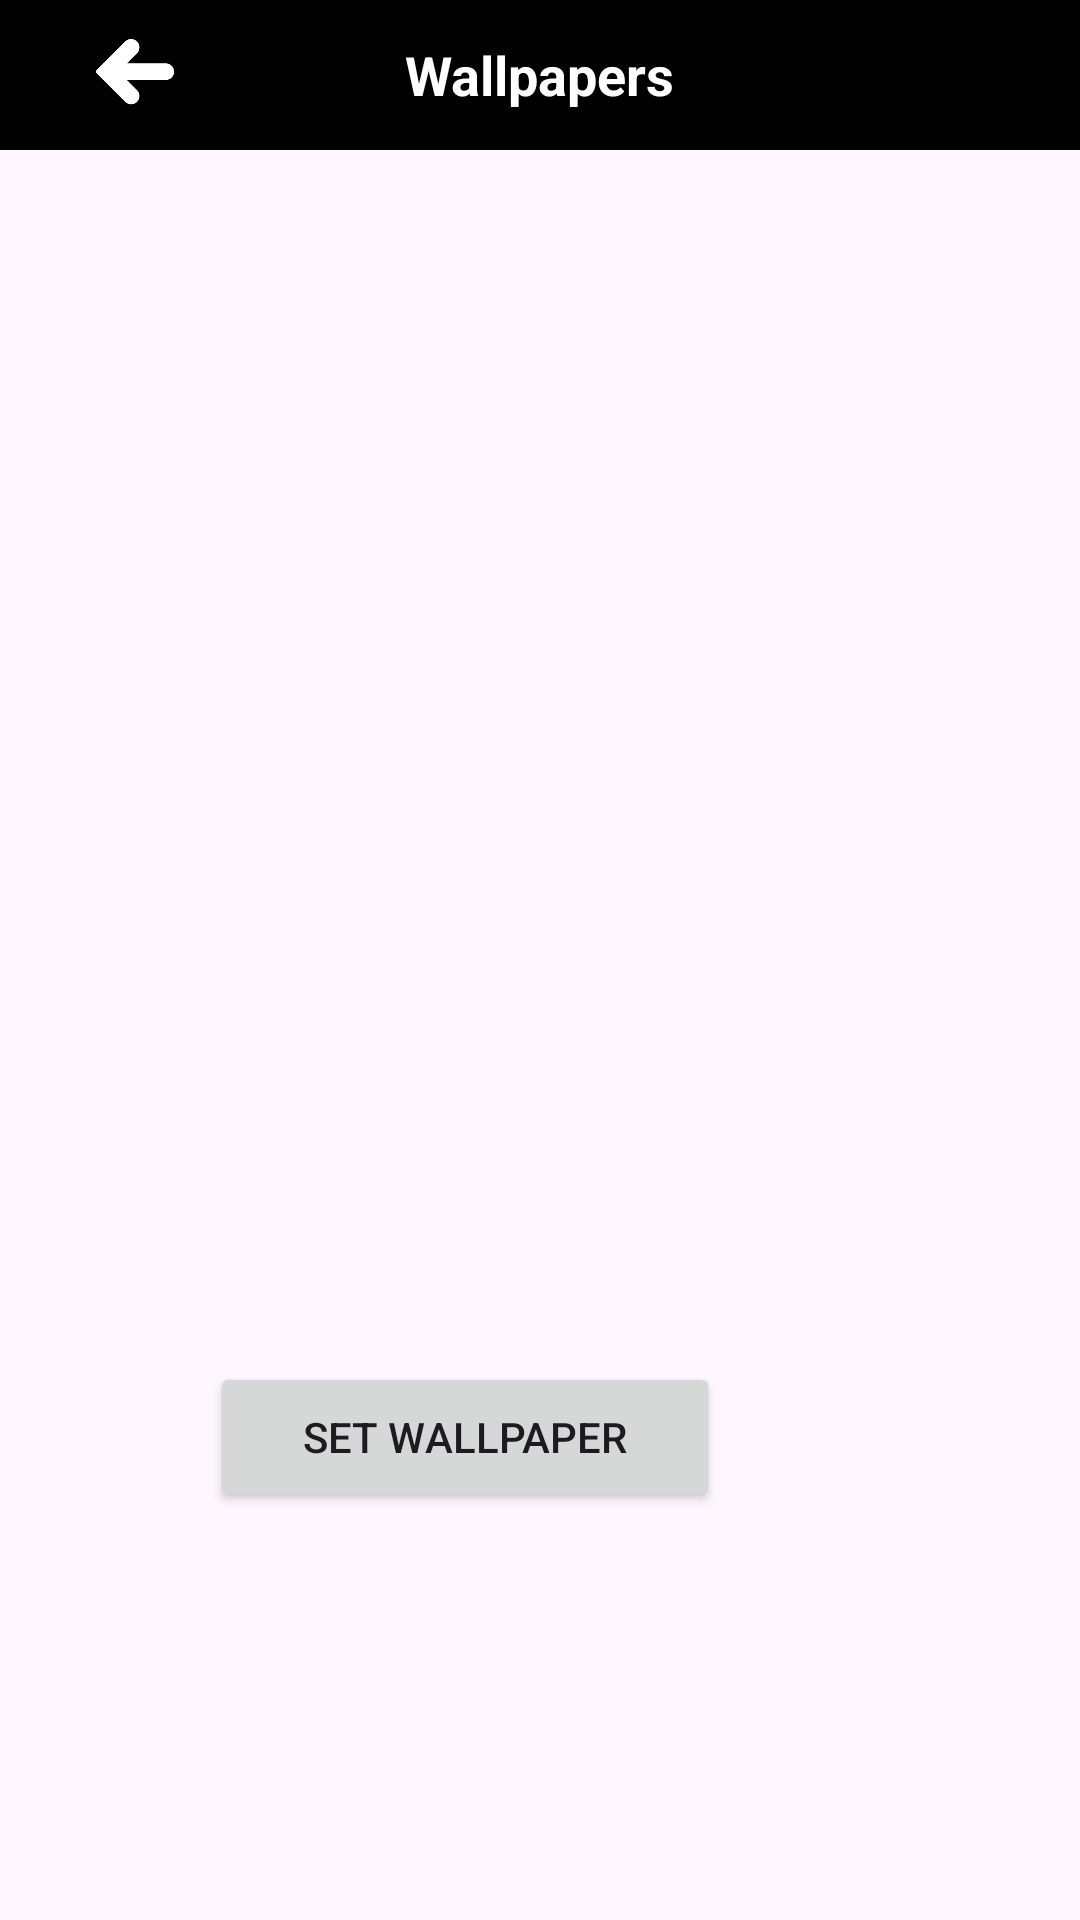

Named icons in this screenshot (1080 x 1920) and their bounding boxes, region(x1, y1, x2, y2):
aroow back: region(96, 39, 174, 105)
